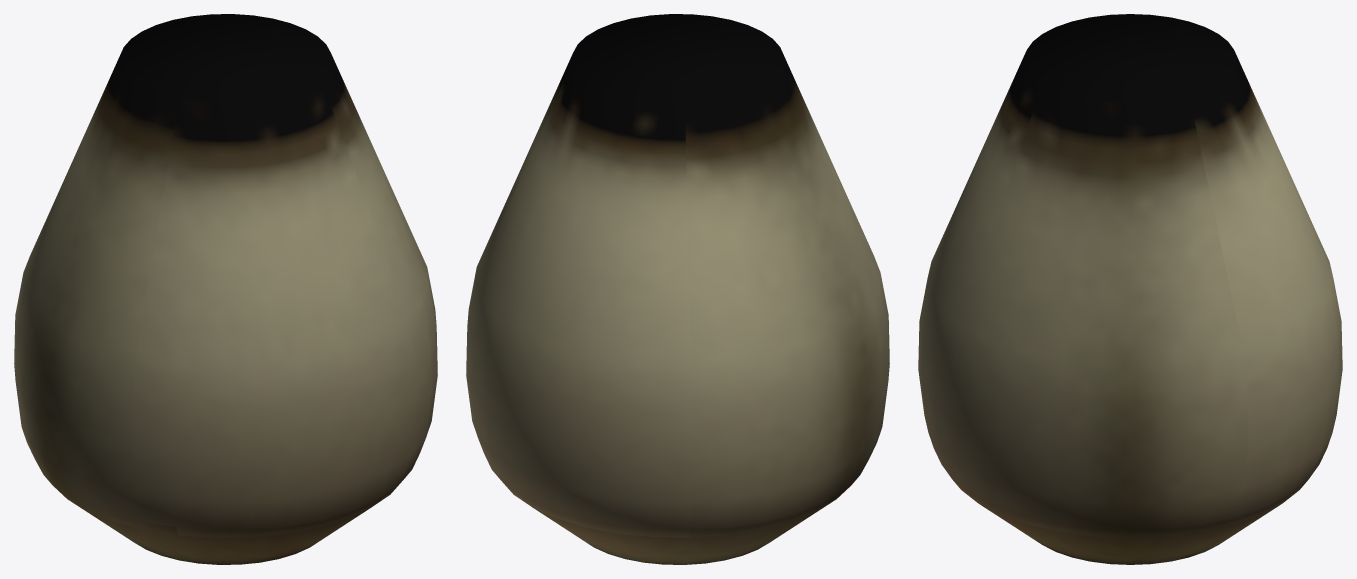
File: zarowka.gltf
3 views of the same model, side by side, from view 1: azimuth 30°, elevation 25°; view 2: azimuth 150°, elevation 25°; view 3: azimuth 270°, elevation 25° (orthographic).
Visible parts, largest first — view 1: Swiatlo; view 2: Swiatlo; view 3: Swiatlo.
Boxes of the visible parts, x1,y1,x2,y2 form: Swiatlo: (14, 14, 437, 564); Swiatlo: (466, 14, 889, 564); Swiatlo: (918, 14, 1342, 564).
Bounding box in the file's own units: 0.2133 × 0.256 × 0.2133.
Materials: 1 (1 with a texture image).
